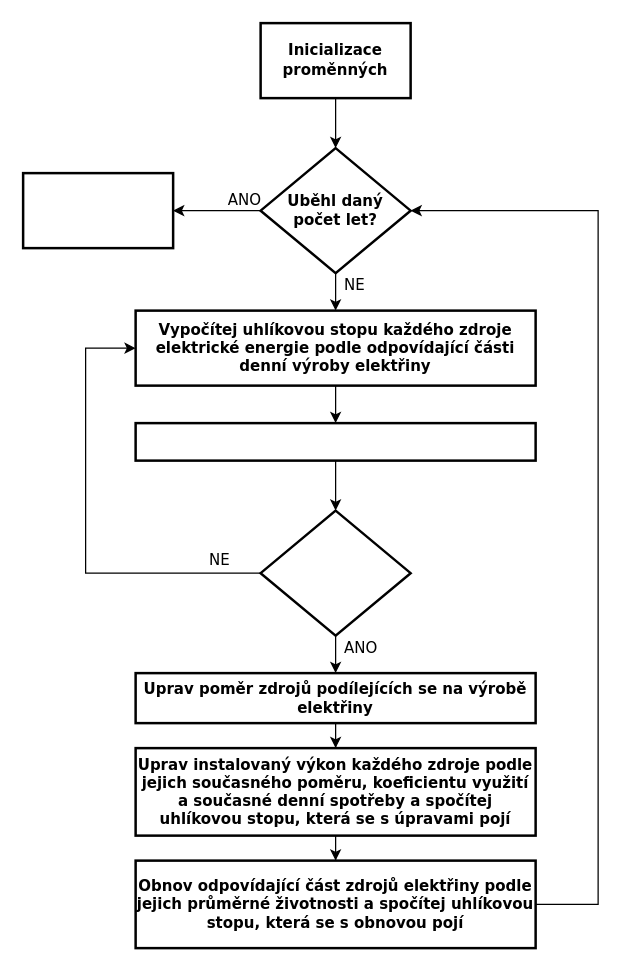
The diagram is 630 pixels wide and 970 high, and some of its shapes have lost their labels. The centre of each missing label's shape, as x and y in pixels:
"Konec simulace" belongs at point 97,210.
"Uběhl počet dní v 1 roce?" belongs at point 335,572.
"Uprav denní spotřebu elektřiny" belongs at point 335,441.
